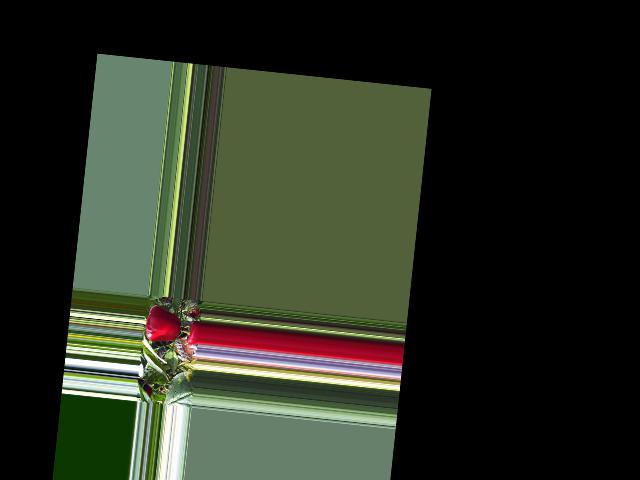bell_pepper: (183, 318, 201, 347)
